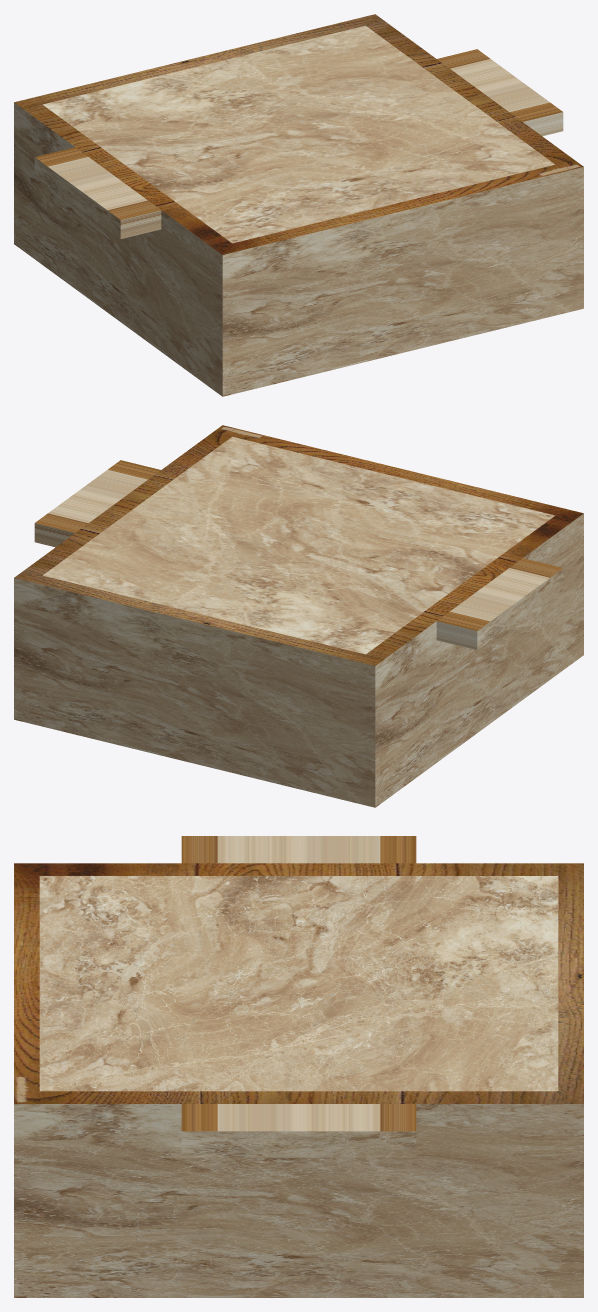
The model's file is crossing3.FBX.
3 renders of one model, top to bottom at view 1: azimuth 30°, elevation 25°; view 2: azimuth 150°, elevation 25°; view 3: azimuth 270°, elevation 25°, orthographic. The views are drawn at different scales.
Parts seen in each view (by area): view 1: Box001; view 2: Box001; view 3: Box001.
Boxes of the visible parts, x1=… form: Box001: x1=14, y1=14, x2=583, y2=396; Box001: x1=14, y1=425, x2=583, y2=807; Box001: x1=14, y1=836, x2=583, y2=1297.
Size of the model in its own units: 49 by 15 by 40.
2 materials, 2 textured.
